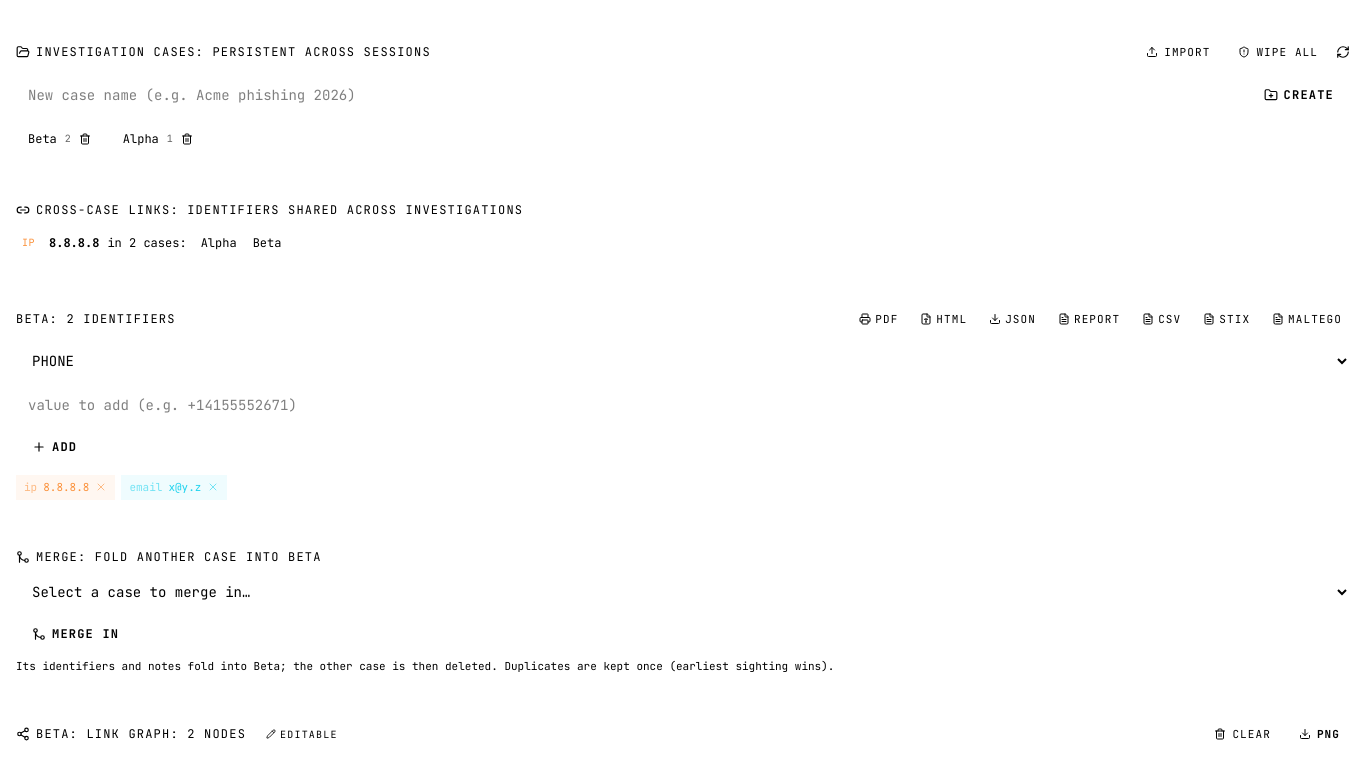
Test case: <CasesPanel> cross-case correlation + timeline › surfaces identifiers shared across cases and jumps to a case from the chip
expect the text "8.8.8.8" is shown: met, box [49,234,99,250]
expect the text "in 2 cases:" is shown: met, box [107,234,187,250]
What coordinates should you click on to do the following:
click the button "Alpha"
I would click on:
 (219, 242)
Its box is [195,232,243,252].
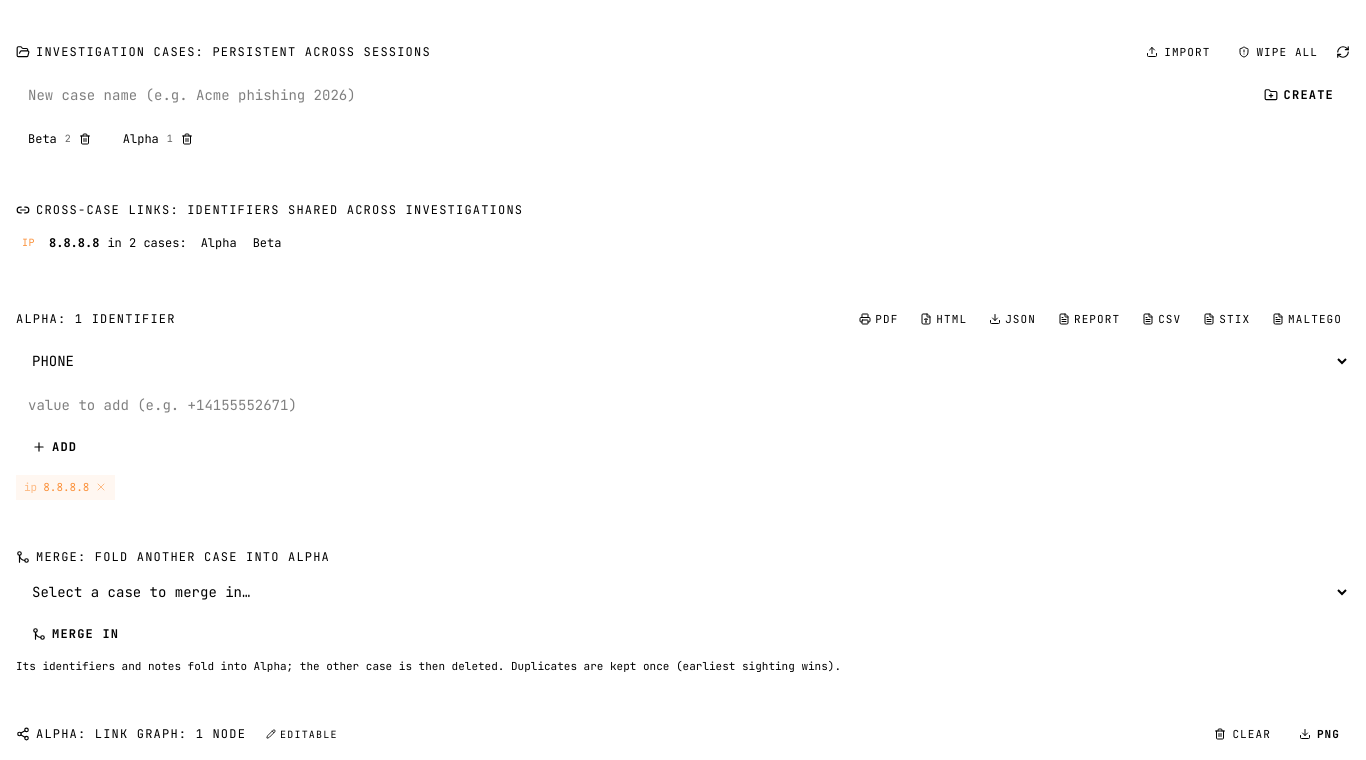
expect the text "Alpha: 1 identifier" is shown: met, box [16,310,176,328]
